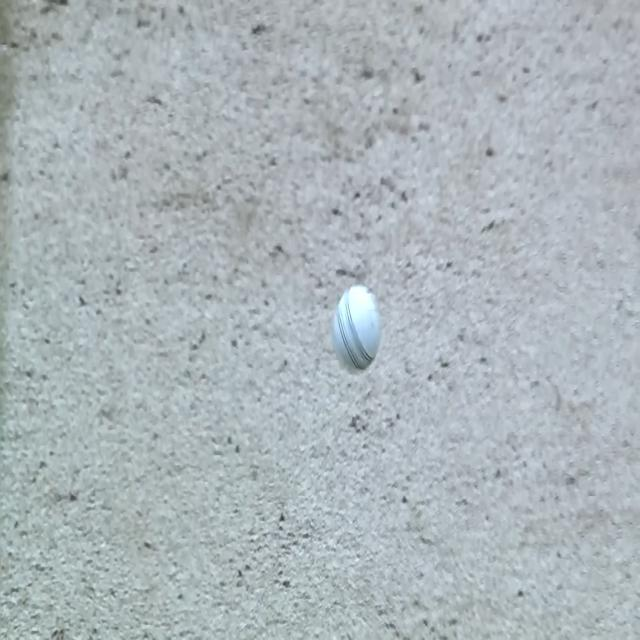ball: (327, 283, 387, 373)
